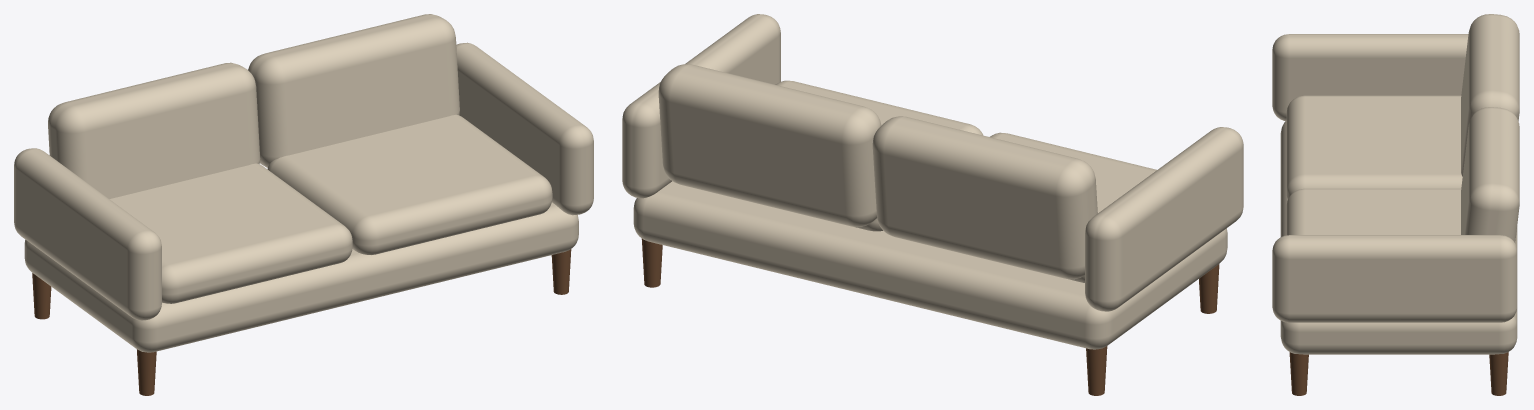
Rendered from sunday-sofa-linen.glb.
The picture shows the model from 3 angles, left to right: view 1: azimuth 30°, elevation 25°; view 2: azimuth 150°, elevation 25°; view 3: azimuth 270°, elevation 25°; orthographic projection. The views are drawn at different scales.
Visible parts, largest first — view 1: The Sunday Sofa — Linen; view 2: The Sunday Sofa — Linen; view 3: The Sunday Sofa — Linen.
Boxes of the visible parts, left/top/right/bottom form: The Sunday Sofa — Linen: left=14, top=14, right=593, bottom=395; The Sunday Sofa — Linen: left=622, top=14, right=1243, bottom=395; The Sunday Sofa — Linen: left=1272, top=14, right=1519, bottom=395.
Size of the model in its own units: 1.86 by 0.79 by 0.9.
